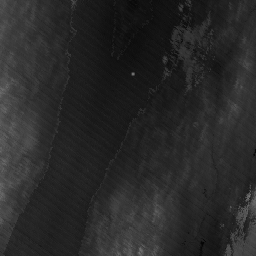Target: (129, 70, 136, 77)
